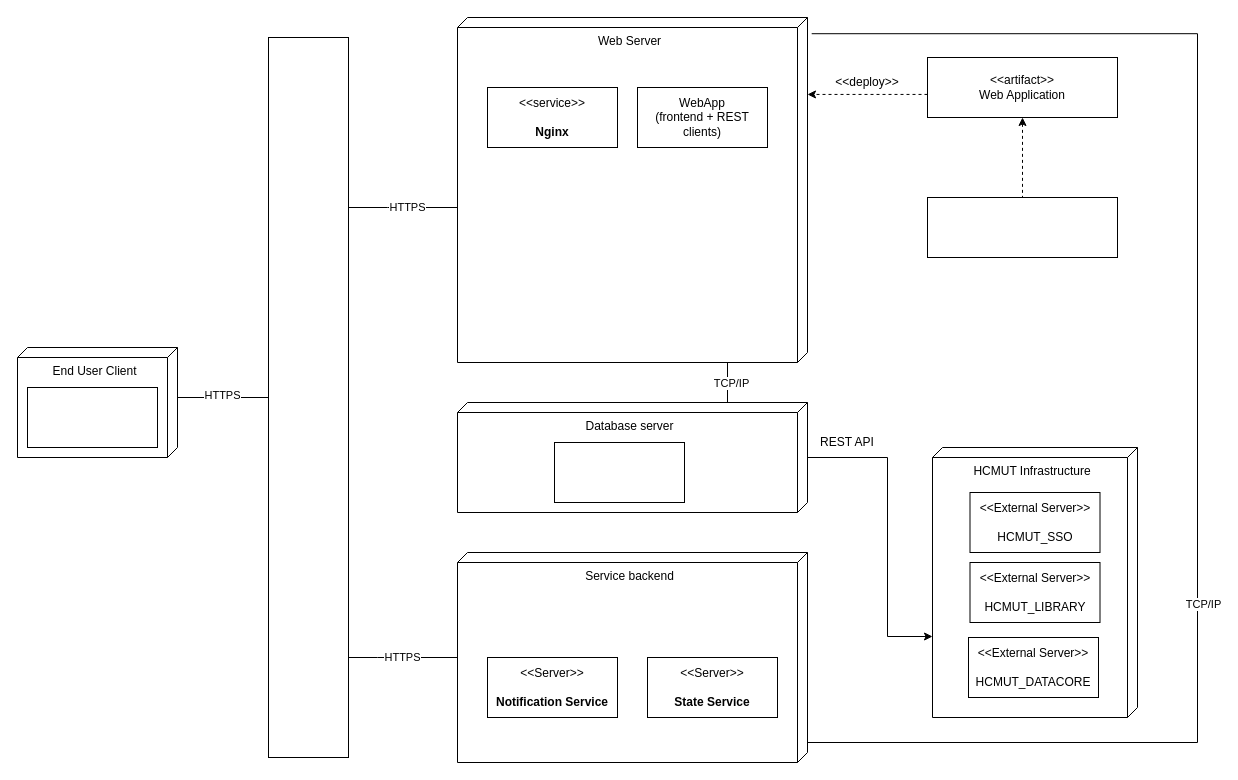
This 1238x780 diagram has some shape labels left out. The shapes that lost their labels are listed below. From the top down, each one's centre as x and y in pixels, then its label:
At (1022,227): "<<deployment spec>> Web Deployment Specification".
At (92,417): "<<artifact>> Browser".
At (308,397): "Firewall".
At (619,472): "<<Server>> Oracle".
